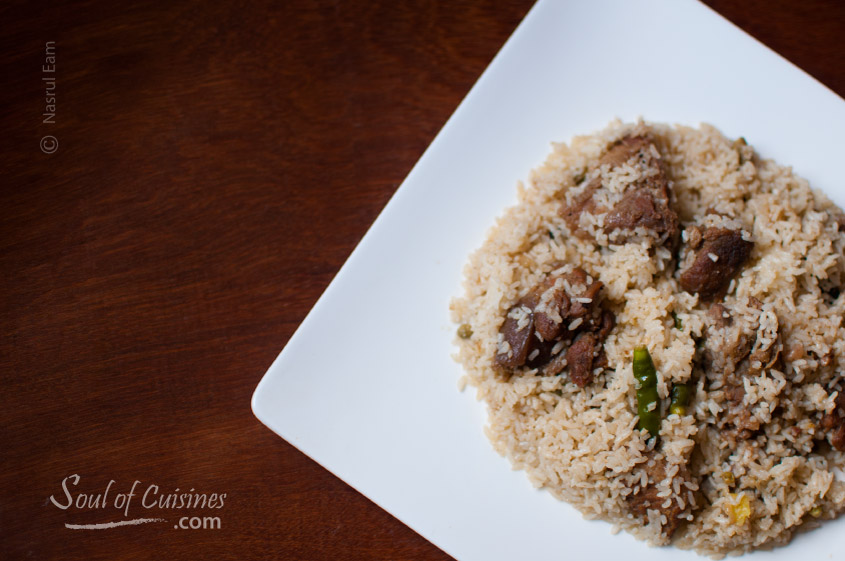tehari: (441, 108, 845, 559)
